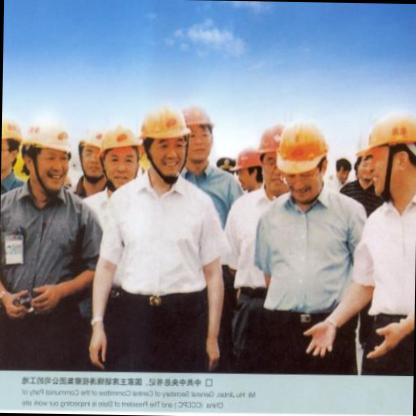helmet: (358, 102, 416, 206), (276, 113, 334, 200), (20, 118, 75, 198), (140, 100, 190, 176), (96, 119, 141, 190), (178, 98, 220, 173), (76, 122, 108, 186), (258, 129, 283, 188), (232, 148, 262, 196), (0, 112, 18, 188)
